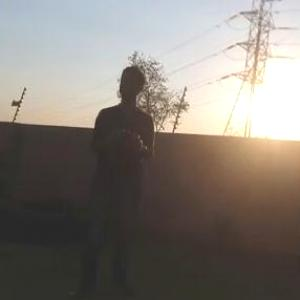follow: (69, 57, 161, 290)
